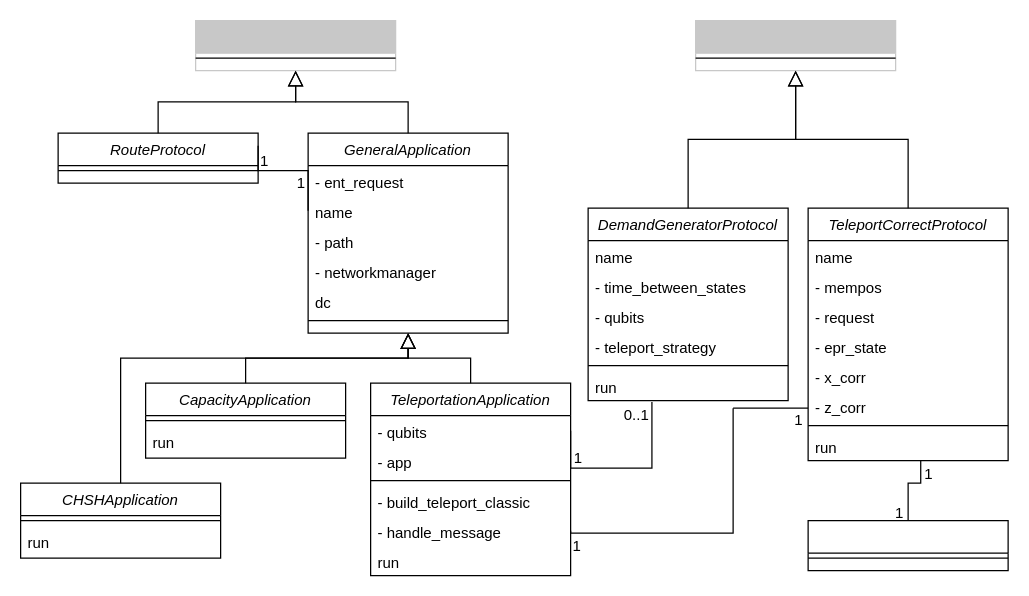
Some shapes in this 1029 by 596 pixel diagram are drawn without their labels. Each missing label, with the centre of its shape:
"LocalProtocol" goes at (x=295, y=45).
"NodeProtocol" goes at (x=795, y=45).
"SwapCorrectProgram" goes at (x=907, y=545).
